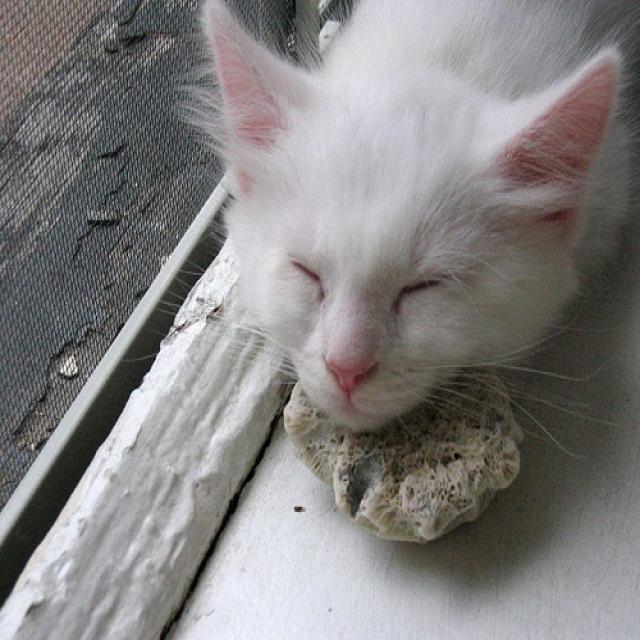cat: (199, 1, 631, 434)
